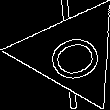O_NE: (35, 22, 107, 84)
